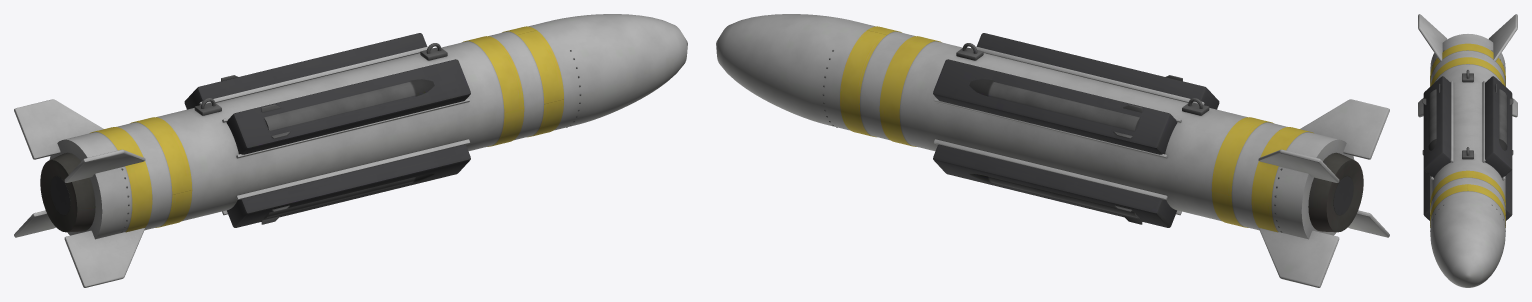
Rendered from aam_evo.glb.
3 renders of one model, left to right at view 1: azimuth 30°, elevation 25°; view 2: azimuth 150°, elevation 25°; view 3: azimuth 270°, elevation 25°, orthographic. The views are drawn at different scales.
Parts seen in each view (by area): view 1: aam_evo; view 2: aam_evo; view 3: aam_evo.
Boxes of the visible parts, box(x1,y1,x2,y2) form: aam_evo: box(14, 14, 687, 287); aam_evo: box(716, 14, 1389, 287); aam_evo: box(1418, 14, 1517, 287).
Bounding box in the file's own units: 0.96 × 0.186 × 0.186.
Materials: 5 (5 with a texture image).
